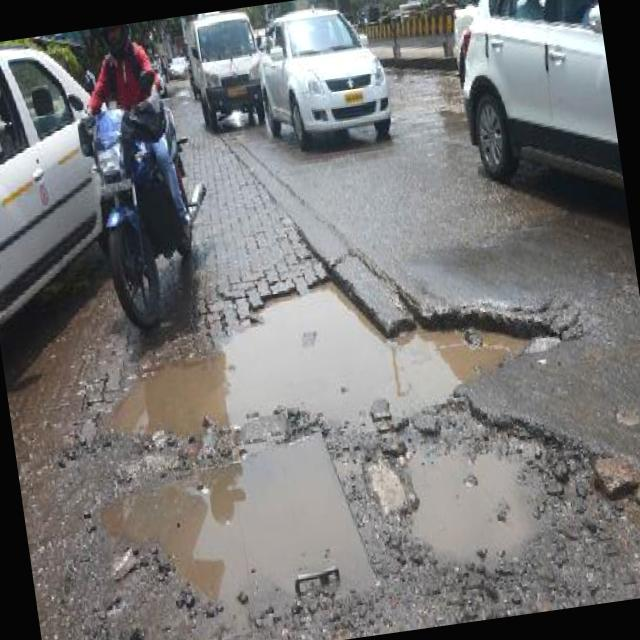Lubang: (112, 265, 561, 435), (101, 432, 373, 628), (395, 395, 571, 571)
